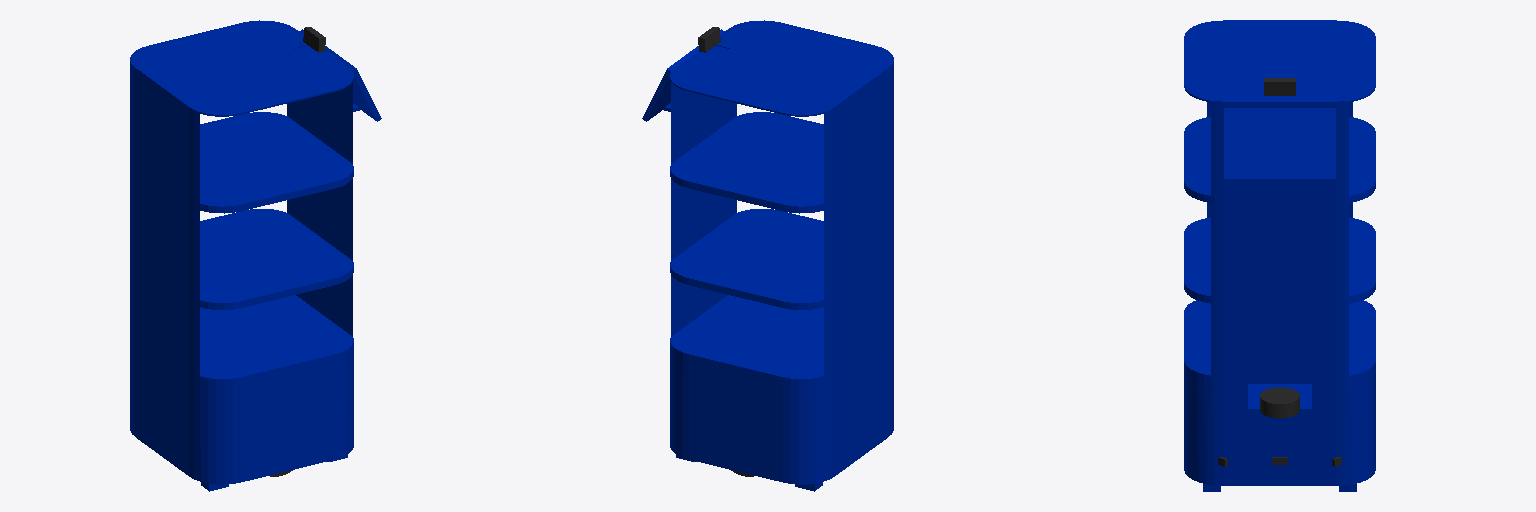
URDF robot description (logistics_robot):
<?xml version="1.0"?>
<robot name="logistics_robot">

  <link name="base_footprint"/>

  <joint name="base_footprint_joint" type="fixed">
    <parent link="base_footprint"/>
    <child link="base_link"/>
    <origin xyz="0 0 0" rpy="0 0 0"/>
  </joint>


  <link name="base_link">
    <visual>
      <origin xyz="0.242 -0.242 0" rpy="1.5708 0 1.5708"/>
      <geometry>
        <mesh filename="package://my_robot_description/meshes/base_link.stl"/>
      </geometry>
      <material name="white">
        <color rgba="0 0.2 0.7 1"/>
      </material>
    </visual>
    <collision>
      <origin xyz="0 0 0.58" rpy="0 0 0"/>
      <geometry>
        <box size="0.484 0.484 1.1"/>
      </geometry>
    </collision>
    <inertial>
      <origin xyz="0 0 0.55" rpy="0 0 0"/>
      <mass value="10.0"/>
      <inertia ixx="1.2" ixy="0.0" ixz="0.0" iyy="1.2" iyz="0.0" izz="0.39"/>
    </inertial>
  </link>

  <link name="left_wheel">
    <visual>
      <origin xyz="0 0 0" rpy="0 0 0"/>
      <geometry>
        <cylinder radius="0.085" length="0.024"/>
      </geometry>
      <material name="black">
        <color rgba="0.2 0.2 0.2 1"/>
      </material>
    </visual>
    <collision>
      <origin xyz="0 0 0" rpy="0 0 0"/>
      <geometry>
        <cylinder radius="0.085" length="0.024"/>
      </geometry>
    </collision>
    <inertial>
      <origin xyz="0 0 0" rpy="0 0 0"/>
      <mass value="1.0"/>
      <inertia ixx="0.00185" ixy="0.0" ixz="0.0" iyy="0.00185" iyz="0.0" izz="0.00361"/>
    </inertial>
  </link>

  <joint name="left_wheel_joint" type="continuous">
    <parent link="base_link"/>
    <child link="left_wheel"/>
    <origin xyz="0 0.1923 0.085" rpy="-1.5708 0 0"/>
    <axis xyz="0 0 1"/>
    <limit effort="1.5" velocity="2.3"/>
  </joint>

  <link name="right_wheel">
    <visual>
      <origin xyz="0 0 0" rpy="0 0 0"/>
      <geometry>
        <cylinder radius="0.085" length="0.024"/>
      </geometry>
      <material name="black">
        <color rgba="0.2 0.2 0.2 1"/>
      </material>
    </visual>
    <collision>
      <origin xyz="0 0 0" rpy="0 0 0"/>
      <geometry>
        <cylinder radius="0.085" length="0.024"/>
      </geometry>
    </collision>
    <inertial>
      <origin xyz="0 0 0" rpy="0 0 0"/>
      <mass value="1.0"/>
      <inertia ixx="0.00185" ixy="0.0" ixz="0.0" iyy="0.00185" iyz="0.0" izz="0.00361"/>
    </inertial>
  </link>

  <joint name="right_wheel_joint" type="continuous">
    <parent link="base_link"/>
    <child link="right_wheel"/>
    <origin xyz="0 -0.1923 0.085" rpy="-1.5708 0 0"/>
    <axis xyz="0 0 1"/>
    <limit effort="1.5" velocity="2.3"/>
  </joint>

  <link name="lidar_link">
    <visual>
      <geometry>
        <cylinder radius="0.05" length="0.04"/>
      </geometry>
      <material name="black"/>
    </visual>
    <collision>
      <geometry>
        <cylinder radius="0.05" length="0.04"/>
      </geometry>
    </collision>
    <inertial>
      <mass value="0.1"/>
      <inertia ixx="0.0001" ixy="0" ixz="0" iyy="0.0001" iyz="0" izz="0.0001"/>
    </inertial>
  </link>

  <joint name="lidar_joint" type="fixed">
    <parent link="base_link"/>
    <child link="lidar_link"/>
    <origin xyz="0.25 0 0.265" rpy="0 0 0"/>
  </joint>

  <gazebo reference="lidar_link">
    <material>Gazebo/Black</material>
    <sensor name="lidar" type="ray">
      <pose>0 0 0 0 0 0</pose>
      <visualize>true</visualize>
      <update_rate>10</update_rate>
      <ray>
        <scan>
          <horizontal>
            <samples>160</samples>
            <resolution>1.0</resolution>
            <min_angle>0</min_angle>
            <max_angle>1.396</max_angle>
          </horizontal>
        </scan>
        <range>
          <min>0.15</min>
          <max>12.0</max>
          <resolution>0.015</resolution>
        </range>
      </ray>
      <plugin name="scan" filename="libgazebo_ros_ray_sensor.so">
        <ros>
          <remapping>~/out:=scan</remapping>
        </ros>
        <output_type>sensor_msgs/LaserScan</output_type>
        <frame_name>lidar_link</frame_name>
      </plugin>
    </sensor>
  </gazebo>

  <link name="camera_link">
    <visual>
      <geometry>
        <box size="0.02 0.08 0.04"/>
      </geometry>
      <material name="black"/>
    </visual>
    <collision>
      <geometry>
        <box size="0.02 0.08 0.04"/>
      </geometry>
    </collision>
    <inertial>
      <mass value="0.1"/>
      <inertia ixx="0.0001" ixy="0" ixz="0" iyy="0.0001" iyz="0" izz="0.0001"/>
    </inertial>
  </link>

  <joint name="camera_joint" type="fixed">
    <parent link="base_link"/>
    <child link="camera_link"/>
    <origin xyz="0.22 0 1.13" rpy="0 0.09 0"/>
  </joint>

  <link name="camera_link_optical"></link>
  <joint name="camera_optical_joint" type="fixed">
    <parent link="camera_link"/>
    <child link="camera_link_optical"/>
    <origin xyz="0 0 0" rpy="-1.5708 0 -1.5708"/>
  </joint>

  <!-- Sonar Center -->
  <link name="sonar_center_link">
    <visual>
      <geometry><box size="0.01 0.04 0.02"/></geometry>
      <material name="black"/>
    </visual>
  </link>
  <joint name="sonar_center_joint" type="fixed">
    <parent link="base_link"/>
    <child link="sonar_center_link"/>
    <origin xyz="0.24 0 0.1" rpy="0 0 0"/>
  </joint>

  <!-- Sonar Left (Về mặt hình học đổi sang bên phải để bù trừ cắm ngược dây) -->
  <link name="sonar_left_link">
    <visual>
      <geometry><box size="0.01 0.04 0.02"/></geometry>
      <material name="black"/>
    </visual>
  </link>
  <joint name="sonar_left_joint" type="fixed">
    <parent link="base_link"/>
    <child link="sonar_left_link"/>
    <origin xyz="0.24 -0.15 0.1" rpy="0 0 -0.785"/>
  </joint>

  <!-- Sonar Right (Đảo sang trái) -->
  <link name="sonar_right_link">
    <visual>
      <geometry><box size="0.01 0.04 0.02"/></geometry>
      <material name="black"/>
    </visual>
  </link>
  <joint name="sonar_right_joint" type="fixed">
    <parent link="base_link"/>
    <child link="sonar_right_link"/>
    <origin xyz="0.24 0.15 0.1" rpy="0 0 0.785"/>
  </joint>

  <gazebo reference="camera_link">
    <material>Gazebo/Black</material>
    <sensor type="camera" name="camera">
      <pose>0 0 0 0 0 0</pose>
      <visualize>true</visualize>
      <update_rate>30.0</update_rate>
      <camera>
        <horizontal_fov>1.089</horizontal_fov>
        <image>
          <format>R8G8B8</format>
          <width>640</width>
          <height>480</height>
        </image>
        <clip>
          <near>0.05</near>
          <far>8.0</far>
        </clip>
      </camera>
      <plugin name="camera_controller" filename="libgazebo_ros_camera.so">
        <frame_name>camera_link_optical</frame_name>
      </plugin>
    </sensor>
  </gazebo>

  <link name="caster_linkf">
    <collision>
      <origin xyz="0 0 0" rpy="0 0 0"/>
      <geometry>
        <sphere radius="0.04"/> 
      </geometry>
    </collision>
    <inertial>
      <mass value="0.5"/>
      <inertia ixx="0.001" ixy="0.0" ixz="0.0" iyy="0.001" iyz="0.0" izz="0.001"/>
    </inertial>
  </link>

  <joint name="caster_jointf" type="fixed">
    <parent link="base_link"/>
    <child link="caster_linkf"/>
    <origin xyz="0.2 0 0.04" rpy="0 0 0"/> 
  </joint>

  <gazebo reference="caster_linkf">
    <mu1>0.0</mu1>
    <mu2>0.0</mu2>
    <kp>1000000.0</kp>
    <kd>100.0</kd>
    <material>Gazebo/Grey</material>
  </gazebo>

  <link name="caster_linkb">
    <collision>
      <origin xyz="0 0 0" rpy="0 0 0"/>
      <geometry>
        <sphere radius="0.04"/> 
      </geometry>
    </collision>
    <inertial>
      <mass value="0.5"/>
      <inertia ixx="0.001" ixy="0.0" ixz="0.0" iyy="0.001" iyz="0.0" izz="0.001"/>
    </inertial>
  </link>

  <joint name="caster_jointb" type="fixed">
    <parent link="base_link"/>
    <child link="caster_linkb"/>
    <origin xyz="-0.2 0 0.04" rpy="0 0 0"/> 
  </joint>

  <gazebo reference="caster_linkb">
    <mu1>0.0</mu1>
    <mu2>0.0</mu2>
    <kp>1000000.0</kp>
    <kd>100.0</kd>
    <material>Gazebo/Grey</material>
  </gazebo>

  <gazebo>
    <plugin name="diff_drive" filename="libgazebo_ros_diff_drive.so">
      <left_joint>left_wheel_joint</left_joint>
      <right_joint>right_wheel_joint</right_joint>
      <wheel_separation>0.3846</wheel_separation>
      <wheel_diameter>0.17</wheel_diameter>
      <max_wheel_torque>1.5</max_wheel_torque>
      <max_wheel_acceleration>1.0</max_wheel_acceleration>
      <command_topic>cmd_vel</command_topic>
      <odometry_topic>odom</odometry_topic>
      <odometry_frame>odom</odometry_frame>
      <robot_base_frame>base_footprint</robot_base_frame>
      <publish_odom>true</publish_odom>
      <publish_odom_tf>true</publish_odom_tf>
      <publish_wheel_tf>true</publish_wheel_tf>
    </plugin>
  </gazebo>

  <gazebo reference="base_link">
    <material>Gazebo/Orange</material>
  </gazebo>

  <gazebo reference="left_wheel">
    <material>Gazebo/Black</material>
  </gazebo>

  <gazebo reference="right_wheel">
    <material>Gazebo/Black</material>
  </gazebo>

</robot>

--- Facts derived from the render (not from the file) ---
The picture shows the robot from 3 angles, left to right: view 1: azimuth 30°, elevation 25°; view 2: azimuth 150°, elevation 25°; view 3: azimuth 270°, elevation 25°; orthographic projection.
Model logistics_robot with 12 links and 11 joints (2 continuous, 9 fixed), rooted at base_footprint, posed every joint at zero.
Links seen in each view (by area): view 1: base_link; view 2: base_link; view 3: base_link, lidar_link, camera_link.
Link boxes in pixels (left/top/right/bottom): base_link: left=130, top=20, right=381, bottom=491; base_link: left=642, top=20, right=893, bottom=491; base_link: left=1184, top=20, right=1375, bottom=491; lidar_link: left=1260, top=387, right=1299, bottom=418; camera_link: left=1264, top=78, right=1295, bottom=95.
Bounding box of the posed robot: 0.584 × 0.484 × 1.15 m (x, y, z).
1 mesh visuals loaded from 1 distinct referenced files (1 binary STL).
